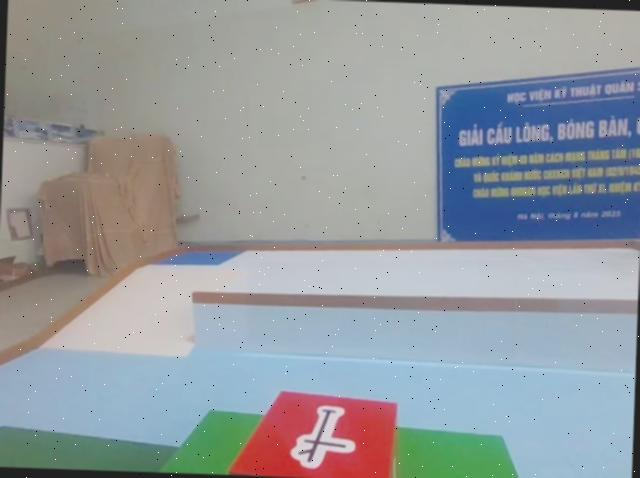R2 Real: (228, 387, 398, 478)
